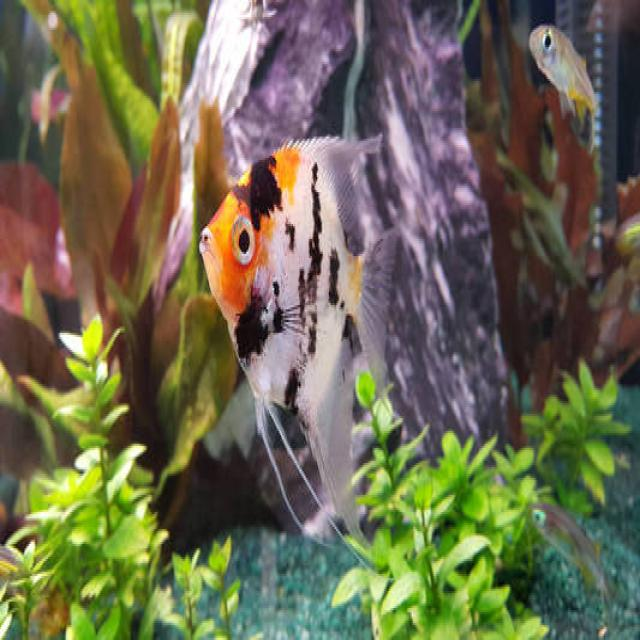AngelFish: (199, 136, 399, 570)
